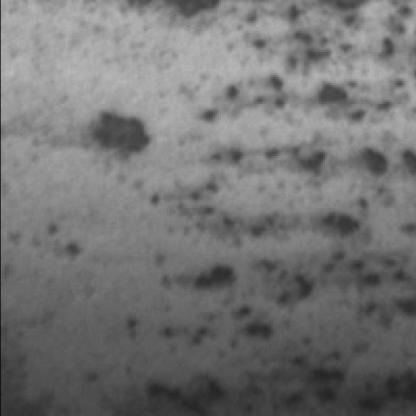patches: (77, 104, 152, 160)
pitted_surface: (135, 135, 397, 408), (185, 0, 412, 131)
